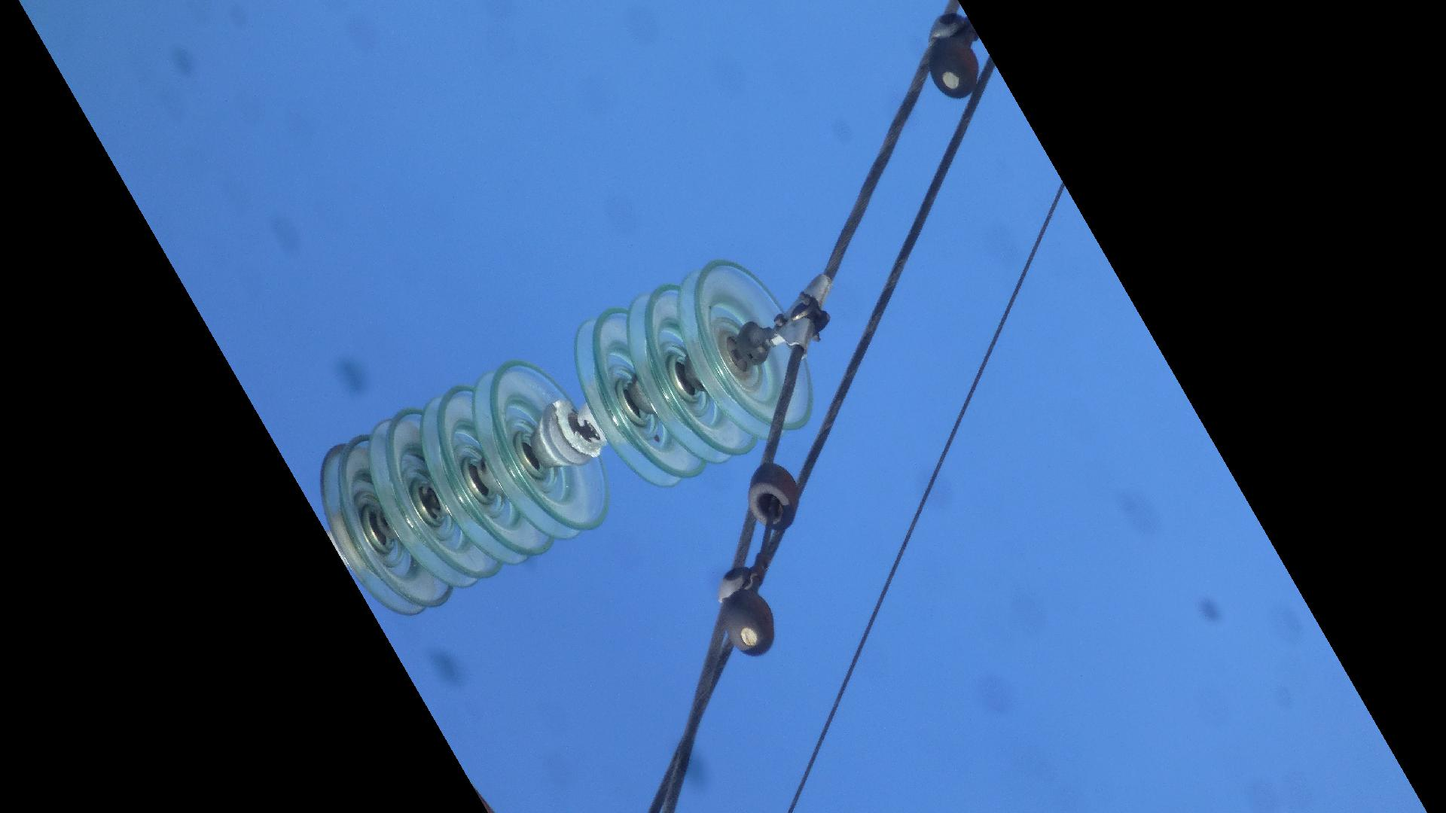insulator: (311, 250, 814, 620)
insulator_stringdrop: (467, 303, 708, 547)
